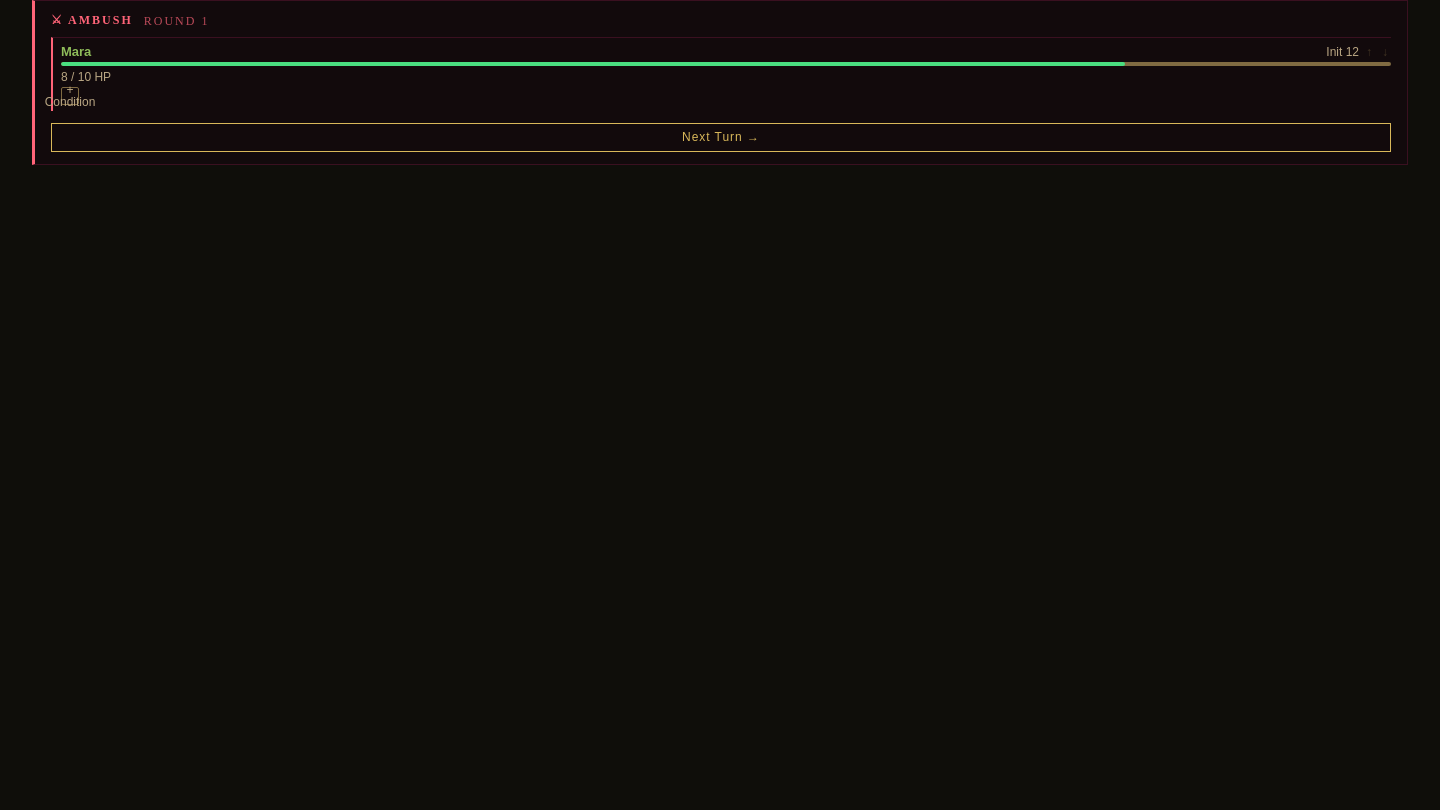
user action failure feedback › rolls back an optimistic combat condition after failure and announces it
Click the button "+ Condition": [70, 96] box [61, 87, 79, 105]
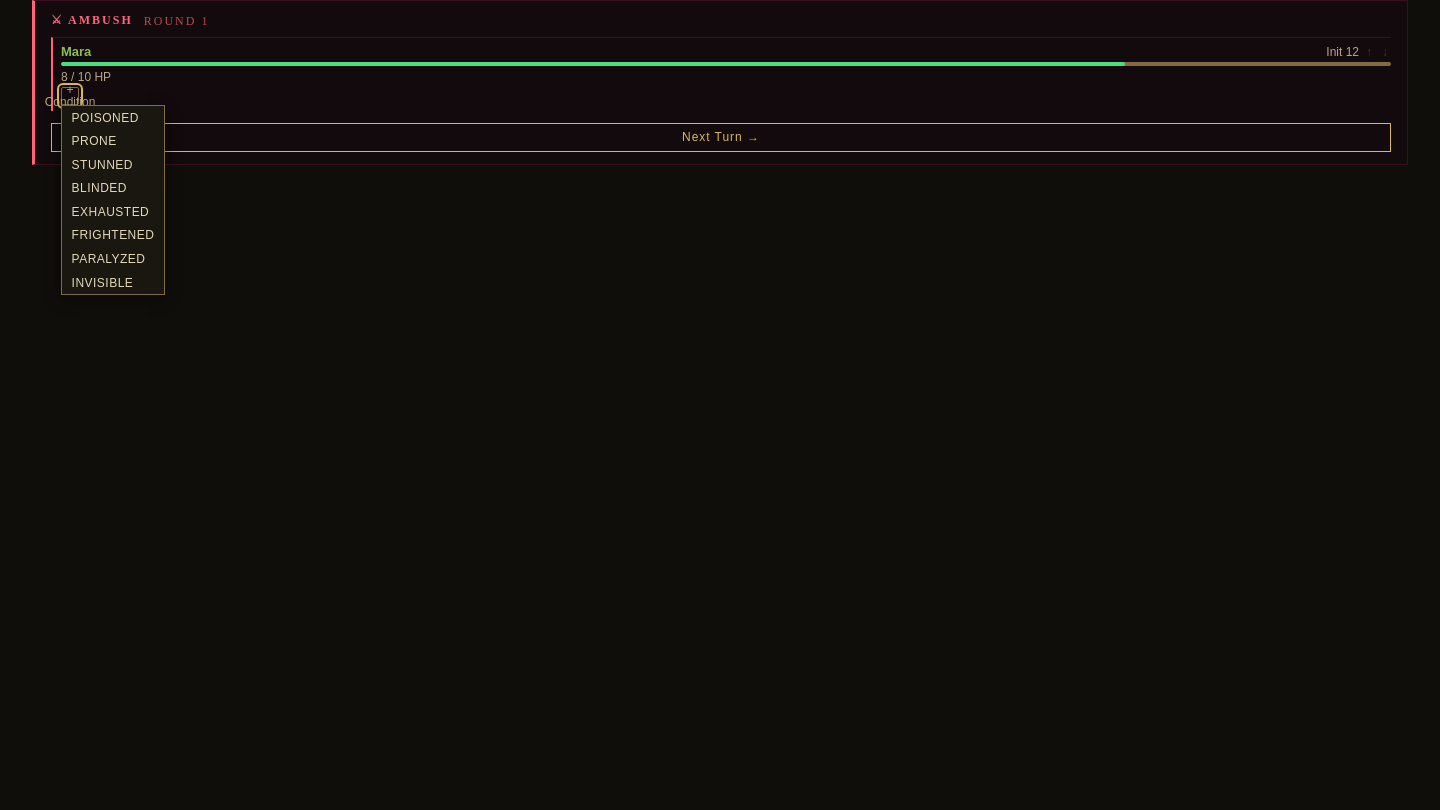
Click the button "Poisoned": [113, 118] box [62, 106, 164, 129]
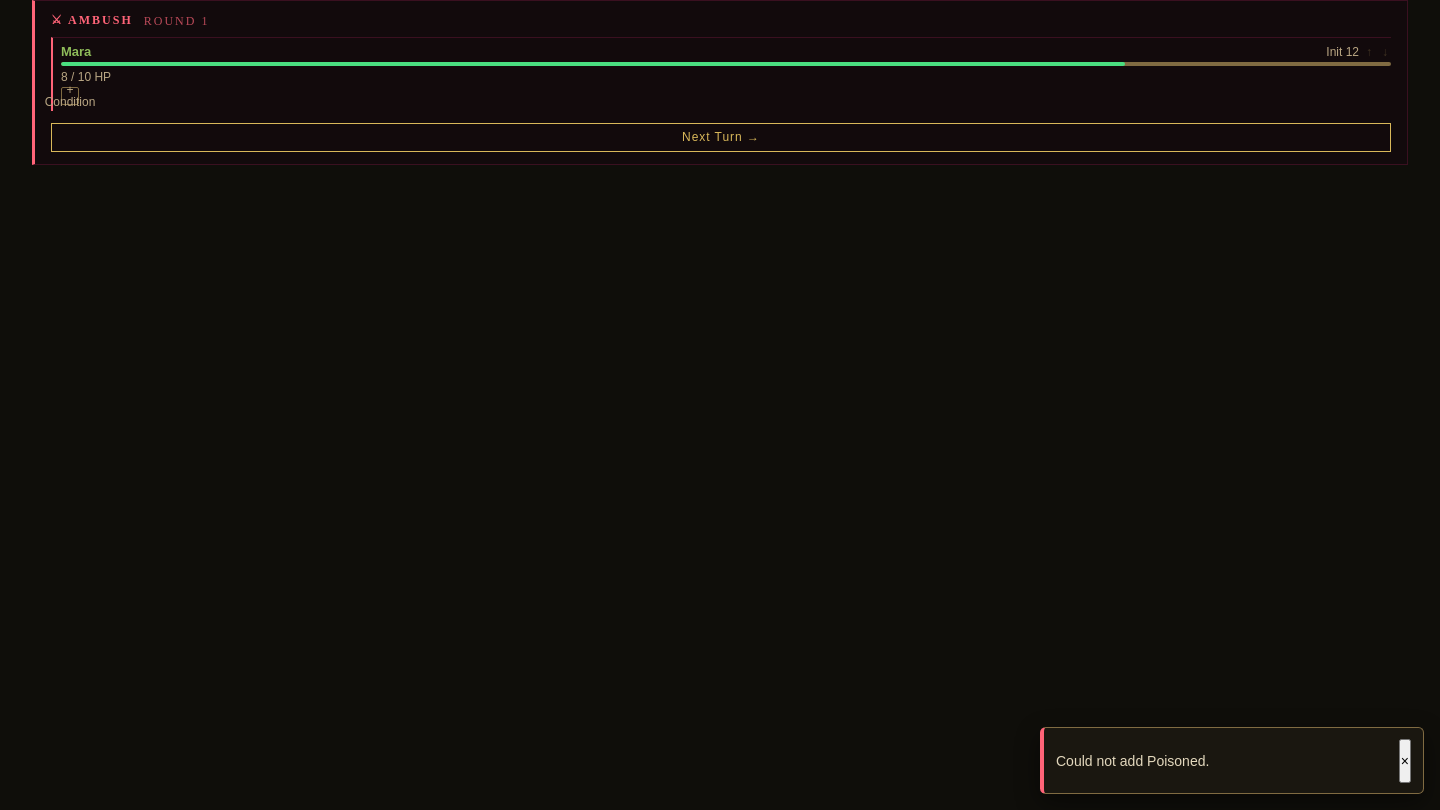
Now the message shows "Could not add Poisoned", box [1056, 753, 1209, 769]
